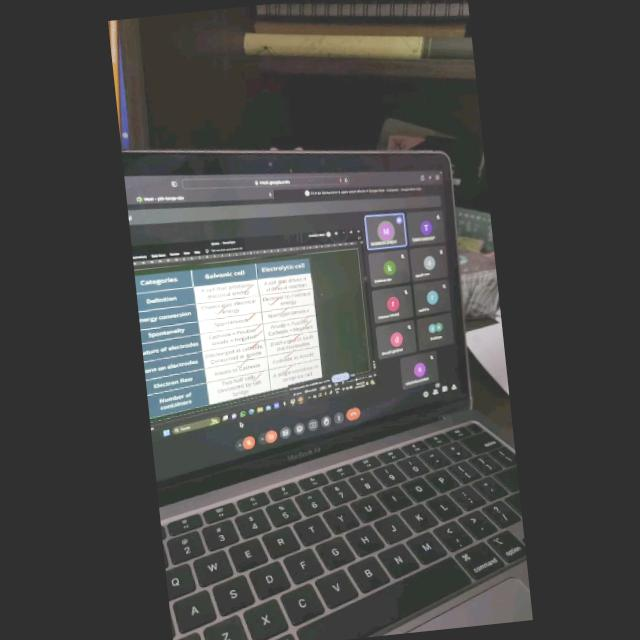laptop: (122, 150, 528, 640)
